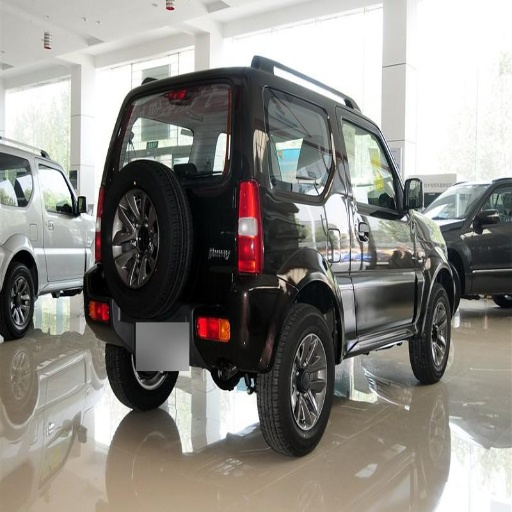back_right_door: (271, 87, 374, 296)
trunk: (230, 304, 277, 367)
